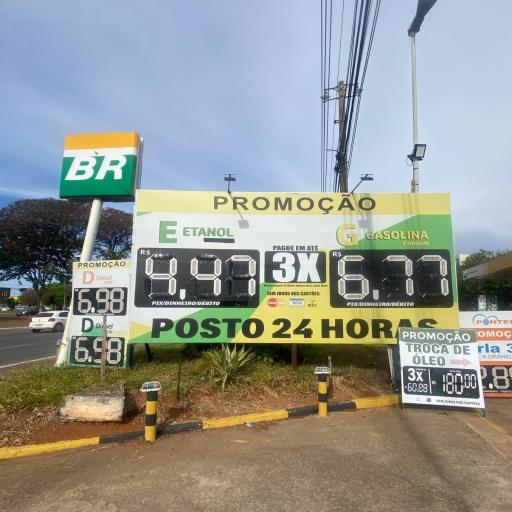S500: (79, 268, 116, 287)
placa: (71, 261, 129, 319)
preco: (76, 286, 126, 314)
